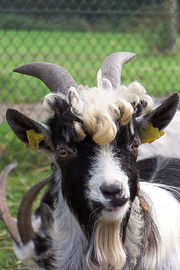goat: (4, 50, 179, 270)
